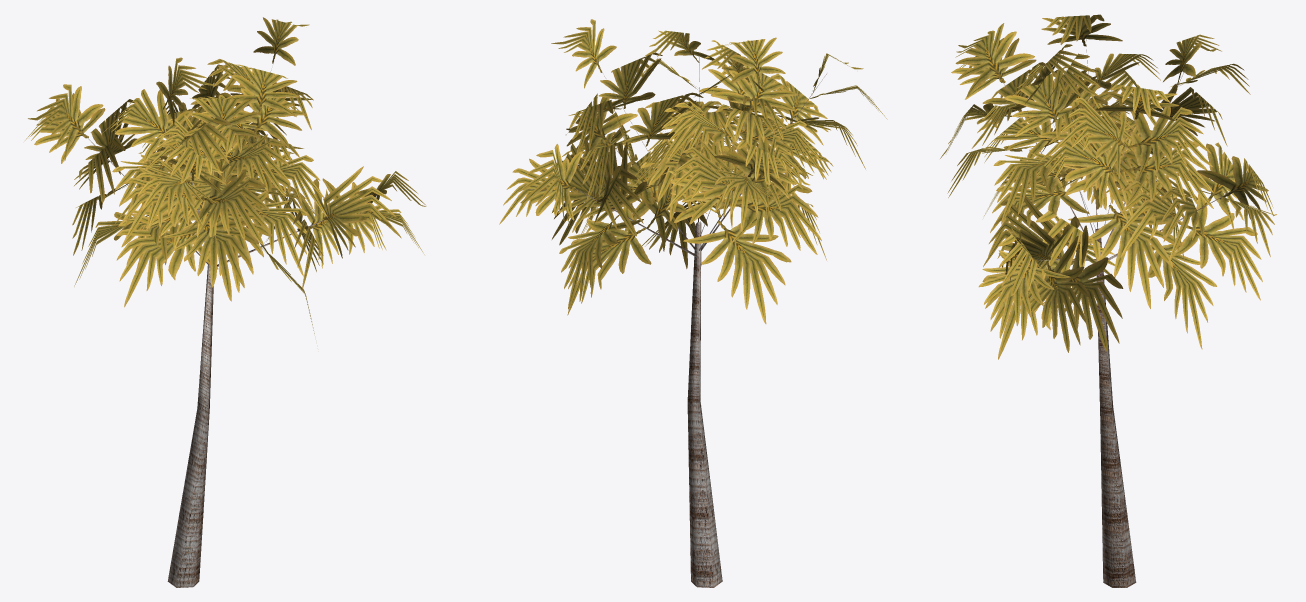
Rendered from sandjungletreelargeLOD01.fbx.
The picture shows the model from 3 angles, left to right: view 1: azimuth 30°, elevation 25°; view 2: azimuth 150°, elevation 25°; view 3: azimuth 270°, elevation 25°; orthographic projection. The views are drawn at different scales.
Visible parts, largest first — view 1: Tree_1, Tree_0; view 2: Tree_1, Tree_0; view 3: Tree_1, Tree_0.
Boxes of the visible parts, x1=… form: Tree_1: x1=25, y1=17, x2=426, y2=333; Tree_0: x1=87, y1=70, x2=325, y2=587; Tree_1: x1=499, y1=19, x2=887, y2=323; Tree_0: x1=575, y1=57, x2=826, y2=587; Tree_1: x1=940, y1=14, x2=1276, y2=359; Tree_0: x1=1001, y1=39, x2=1237, y2=587.
Size of the model in its own units: 101 by 157 by 92.93.
